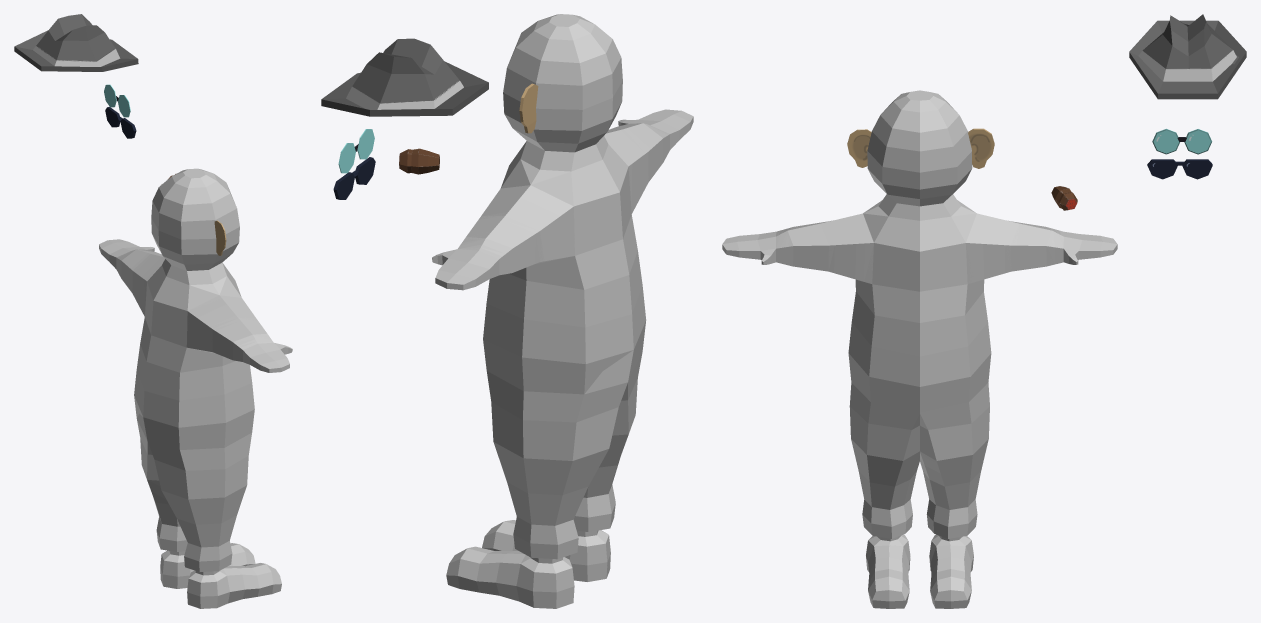
File: Guard1.fbx
3 renders of one model, left to right at view 1: azimuth 30°, elevation 25°; view 2: azimuth 150°, elevation 25°; view 3: azimuth 270°, elevation 25°, orthographic. The views are drawn at different scales.
Visible parts, largest first — view 1: Human, Hat, Sunglasses, Glasses; view 2: Human, Hat, Stogie, Sunglasses, Glasses, Ears; view 3: Human, Hat, Ears, Glasses, Sunglasses.
Part boxes in pixels (bbox=[...]): Human: bbox=[99, 168, 292, 608]; Hat: bbox=[14, 14, 138, 71]; Sunglasses: bbox=[105, 107, 136, 138]; Glasses: bbox=[104, 84, 130, 117]; Human: bbox=[432, 14, 693, 608]; Hat: bbox=[321, 38, 488, 116]; Stogie: bbox=[399, 148, 439, 174]; Sunglasses: bbox=[333, 157, 375, 199]; Glasses: bbox=[338, 129, 374, 173]; Ears: bbox=[519, 83, 538, 133]; Human: bbox=[722, 90, 1117, 608]; Hat: bbox=[1129, 14, 1246, 99]; Ears: bbox=[847, 128, 994, 168]; Glasses: bbox=[1152, 128, 1212, 154]; Sunglasses: bbox=[1147, 159, 1212, 179].
Bounding box in the file's own units: 56.17 × 216 × 186.
